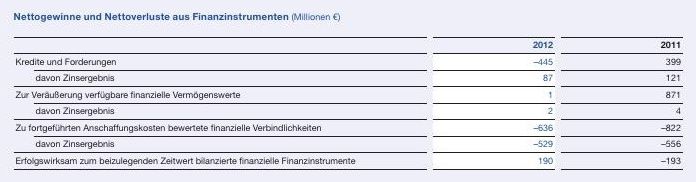table: (0, 0, 696, 182)
